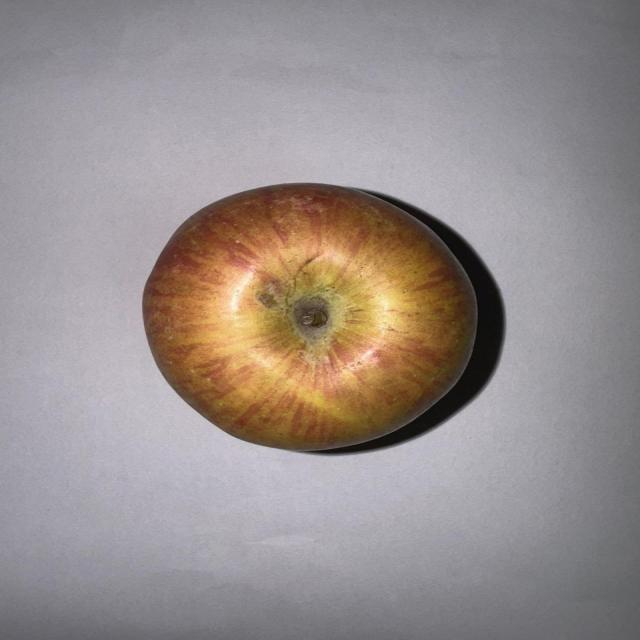fresh_apple: (141, 183, 476, 449)
